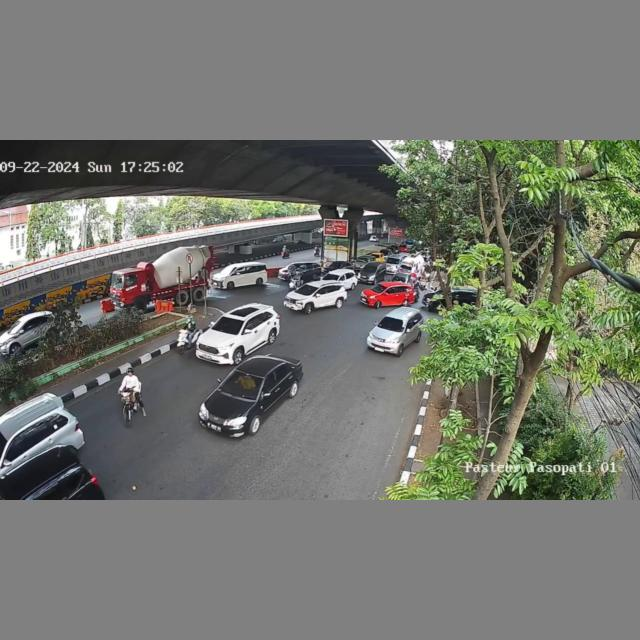windshield: (219, 371, 264, 399), (211, 315, 245, 335), (377, 316, 406, 330), (296, 284, 316, 295)
